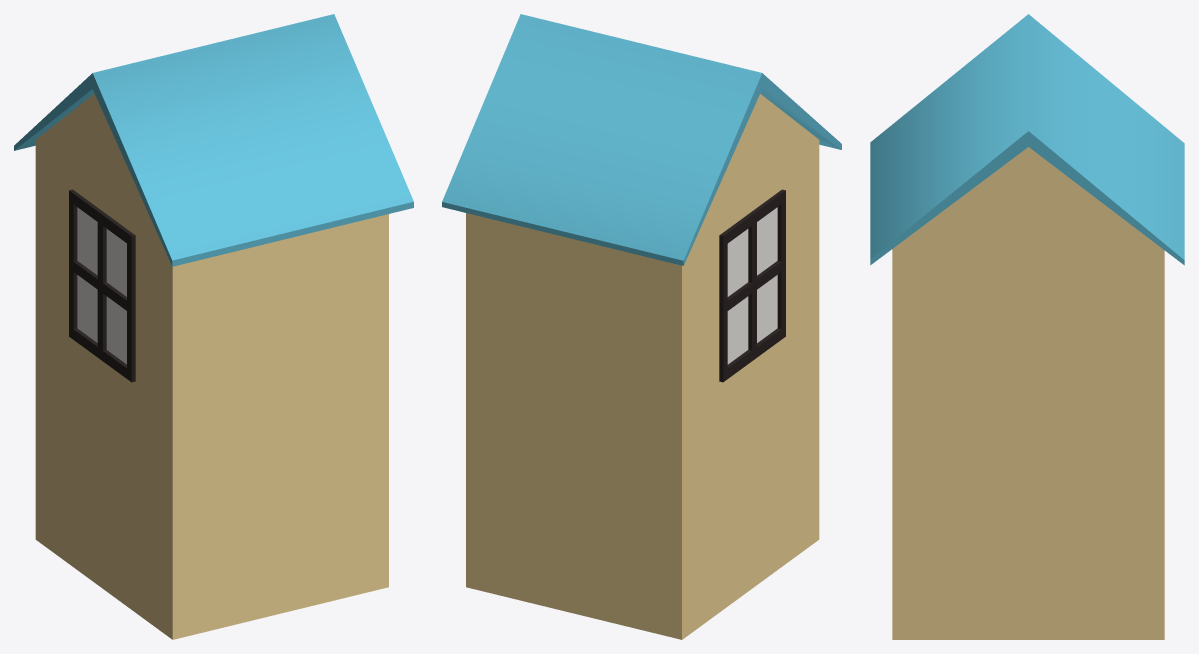
The model's file is House 05 B.FBX.
The picture shows the model from 3 angles, left to right: view 1: azimuth 30°, elevation 25°; view 2: azimuth 150°, elevation 25°; view 3: azimuth 270°, elevation 25°; orthographic projection.
Visible parts, largest first — view 1: Box001; view 2: Box001; view 3: Box001.
Part boxes in pixels (x1,y1,x2,y2): Box001: (14, 14, 413, 639); Box001: (442, 14, 841, 639); Box001: (870, 14, 1184, 639).
Bounding box in the file's own units: 5.57 × 11.45 × 6.32.
